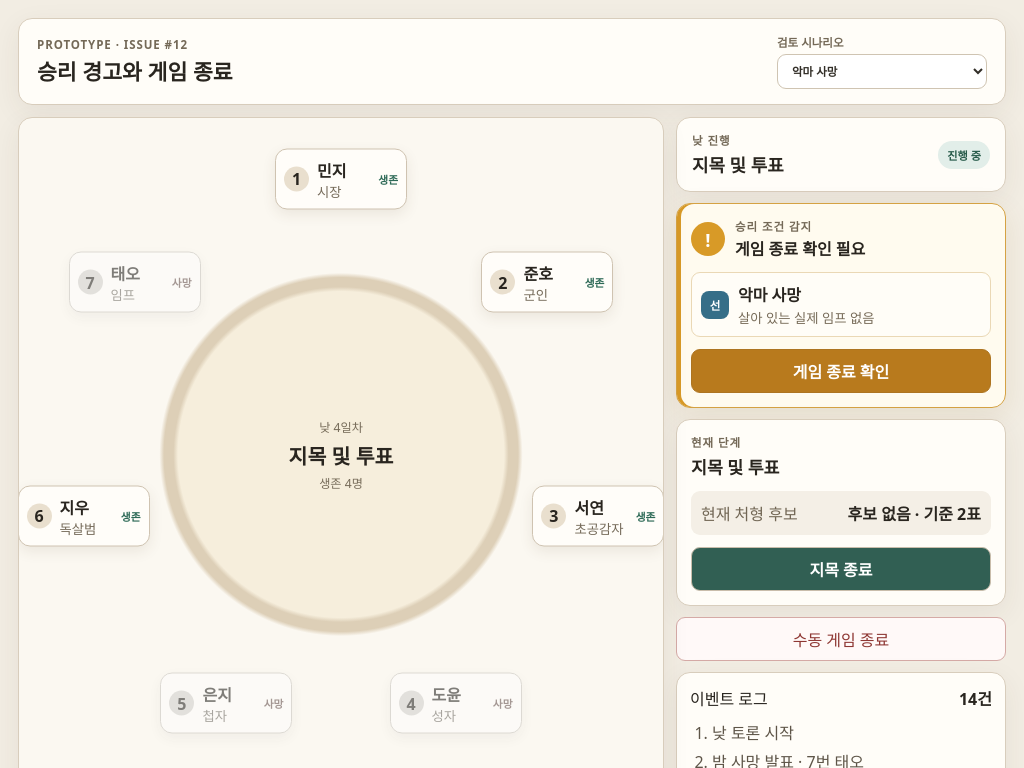
Test: issue 12 win-game prototype › surfaces simultaneous warnings and requires an explicit team confirmation
The image size is (1024, 768).
Select "조건 동시 충족" in the dropdown labelled "검토 시나리오": x=882, y=72 [777,54,987,89]
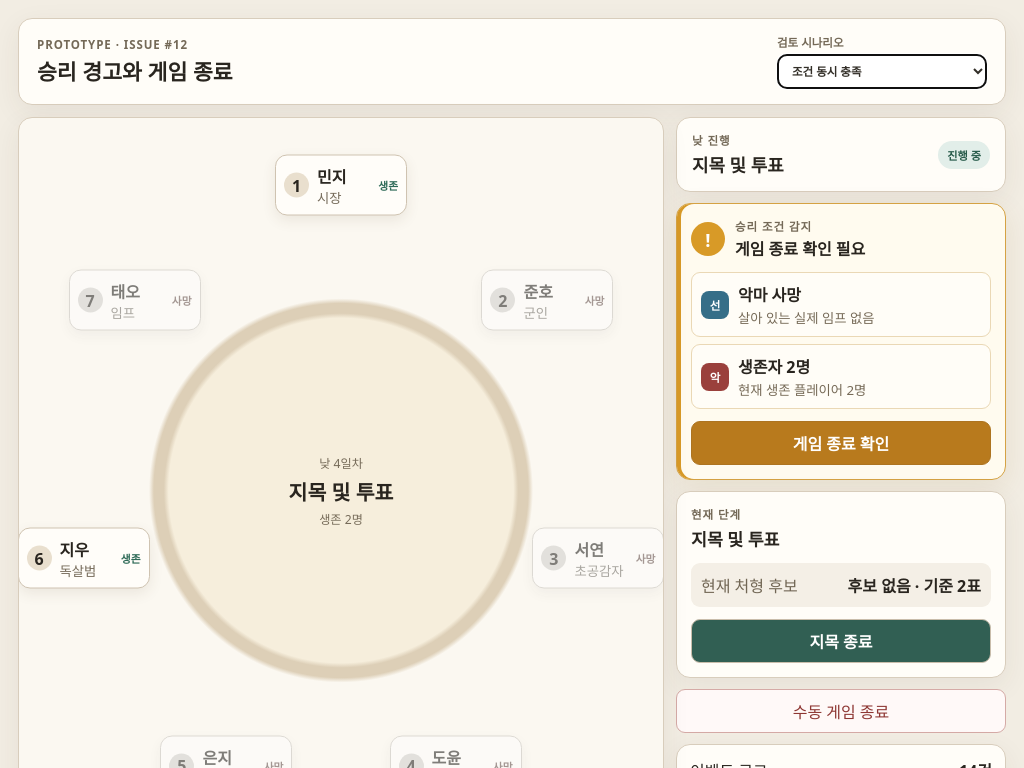
Check: the text "악마 사망" is shown, box [738,284,801,306]
Check: the text "생존자 2명" is shown, box [738,356,810,378]
Click the button "게임 종료 확인": x=841, y=443 [691,421,991,465]
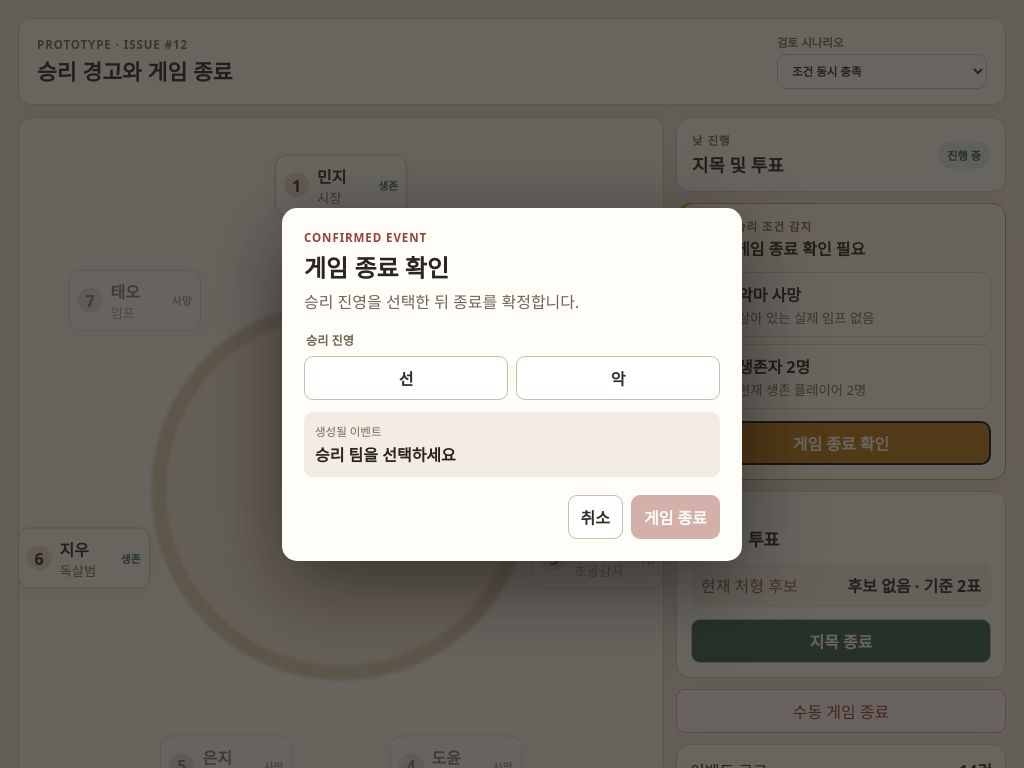
Check: the button "선" is shown
Check: the button "악" is shown, box [516,356,720,400]
Check: the button "게임 종료" is disabled, box [631,494,720,538]
Click the button "선": x=406, y=378 [304,356,508,400]
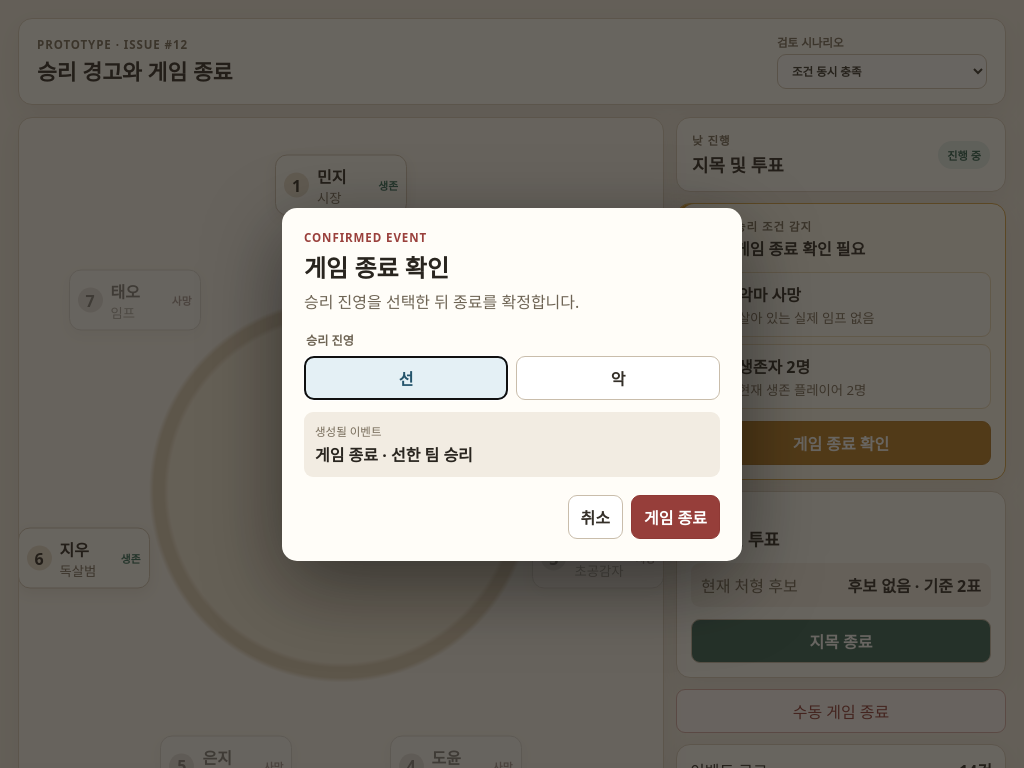
Click the button "게임 종료": x=676, y=516 [631,494,720,538]
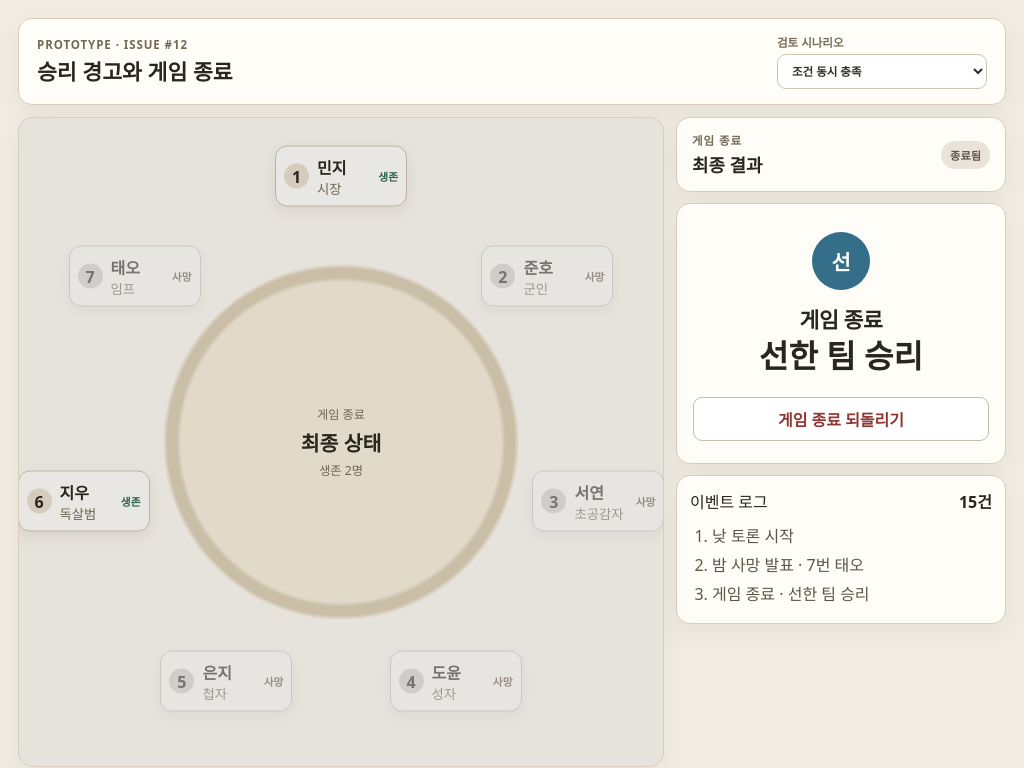
Check: the 2nd text "게임 종료" is shown, box [800,303,882,334]
Check: the element named "게임 종료 상태" shows "선한 팀 승리", box [676,203,1006,464]
Check: the button "게임 종료 되돌리기" is shown, box [693,397,989,441]
